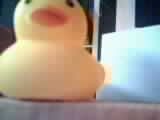duck: (4, 1, 126, 101)
